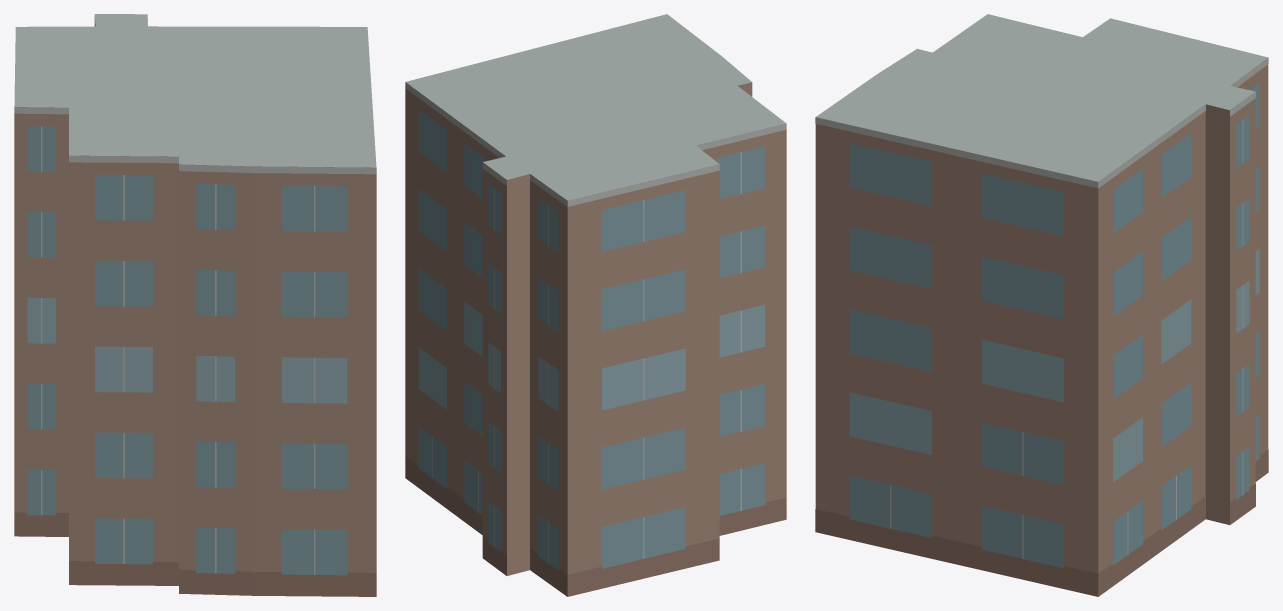
Rendered from survey-upis-32725102.glb.
3 views of the same model, side by side, from view 1: azimuth 30°, elevation 25°; view 2: azimuth 150°, elevation 25°; view 3: azimuth 270°, elevation 25° (orthographic). The views are drawn at different scales.
Parts seen in each view (by area): view 1: survey-upis-32725102.tmp; view 2: survey-upis-32725102.tmp; view 3: survey-upis-32725102.tmp.
Part boxes in pixels (bbox=[...]): survey-upis-32725102.tmp: bbox=[14, 14, 376, 596]; survey-upis-32725102.tmp: bbox=[405, 14, 786, 596]; survey-upis-32725102.tmp: bbox=[815, 14, 1268, 596].
Bounding box in the file's own units: 13.46 × 15.5 × 15.34.
